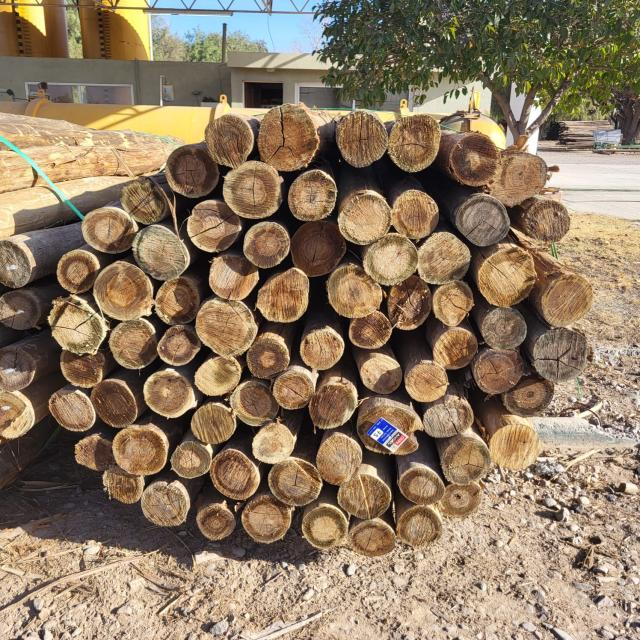package: (51, 103, 590, 547)
